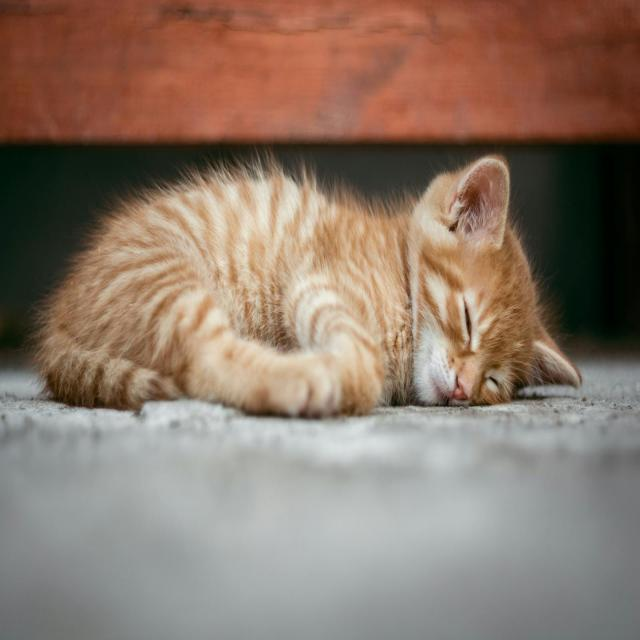Cat: (25, 146, 582, 418)
